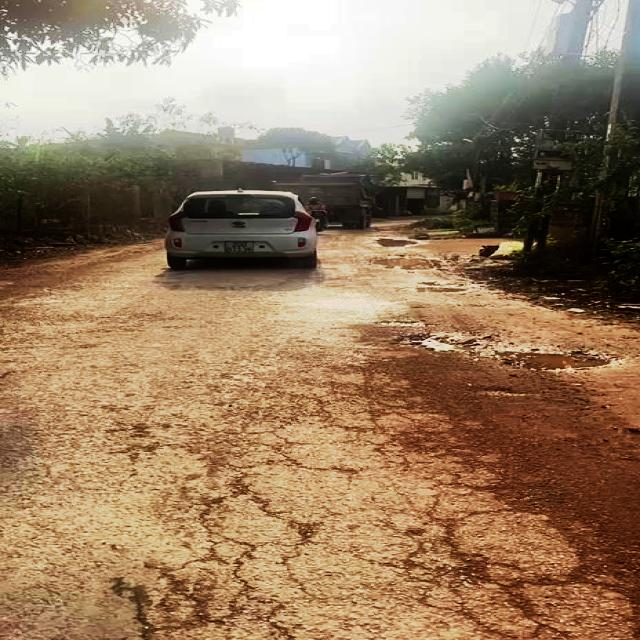pothole: (396, 324, 619, 376), (370, 254, 446, 272), (399, 282, 466, 294), (371, 238, 422, 249)
